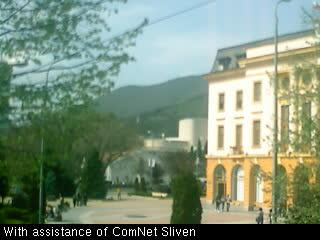person: (256, 207, 264, 224), (220, 195, 227, 212), (226, 194, 232, 212), (268, 208, 274, 224), (215, 195, 220, 212), (116, 187, 122, 200), (77, 192, 82, 207), (83, 192, 87, 207), (73, 193, 76, 207)
